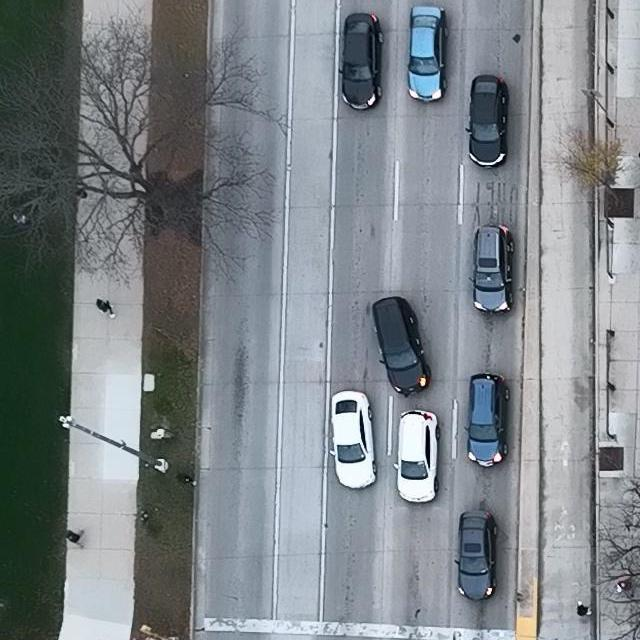car: (372, 296, 431, 396), (329, 389, 377, 489), (393, 409, 441, 503), (339, 12, 384, 111), (405, 4, 448, 104), (464, 373, 509, 468), (465, 73, 509, 170), (469, 222, 514, 316), (454, 511, 498, 602)
